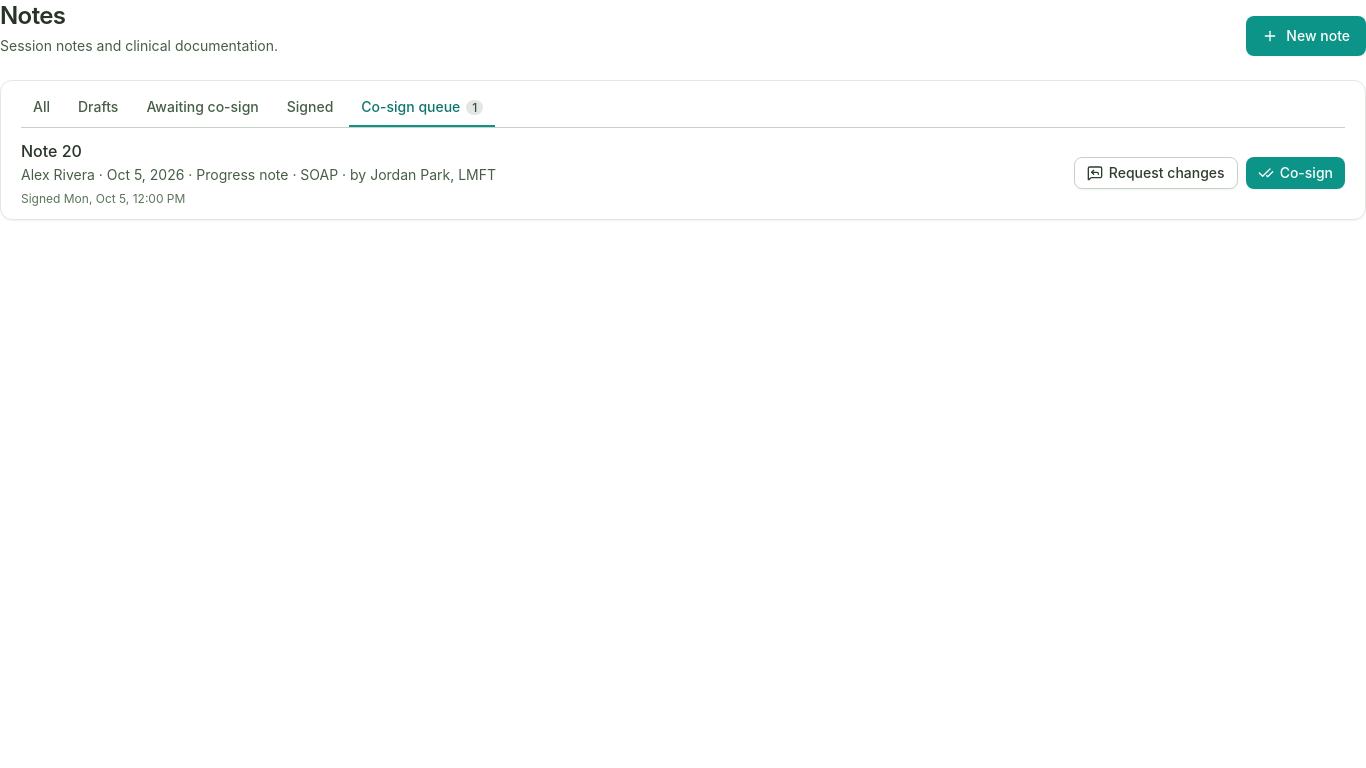
co-sign queue › lets a supervisor co-sign a supervisee's note from the queue
Check: the text "by Jordan Park, LMFT" is shown, box [21,166,496,183]
Click the button with aria-label "Co-sign Jordan Park, LMFT's note for Alex Rivera": (1295, 173) [1246,157,1345,189]
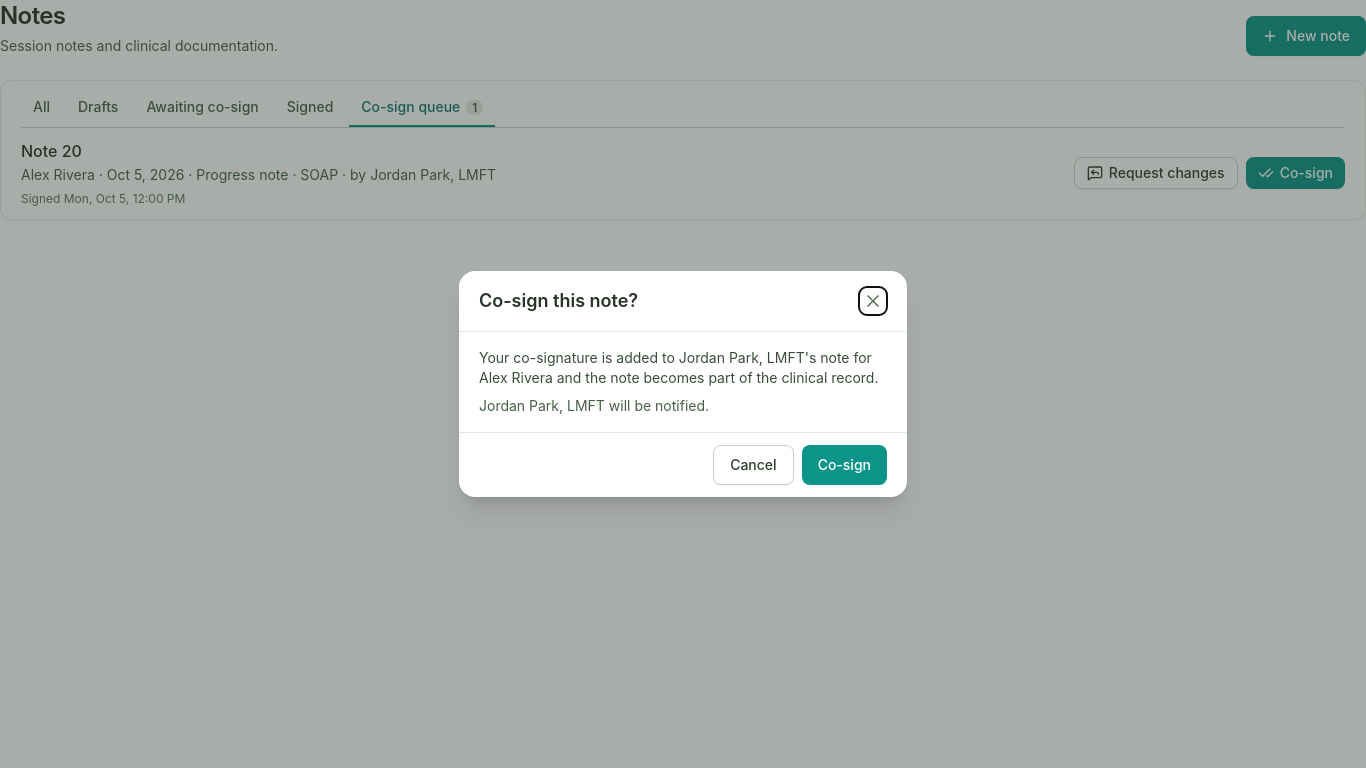
Click the button "Co-sign": (844, 465) [802,445,887,485]
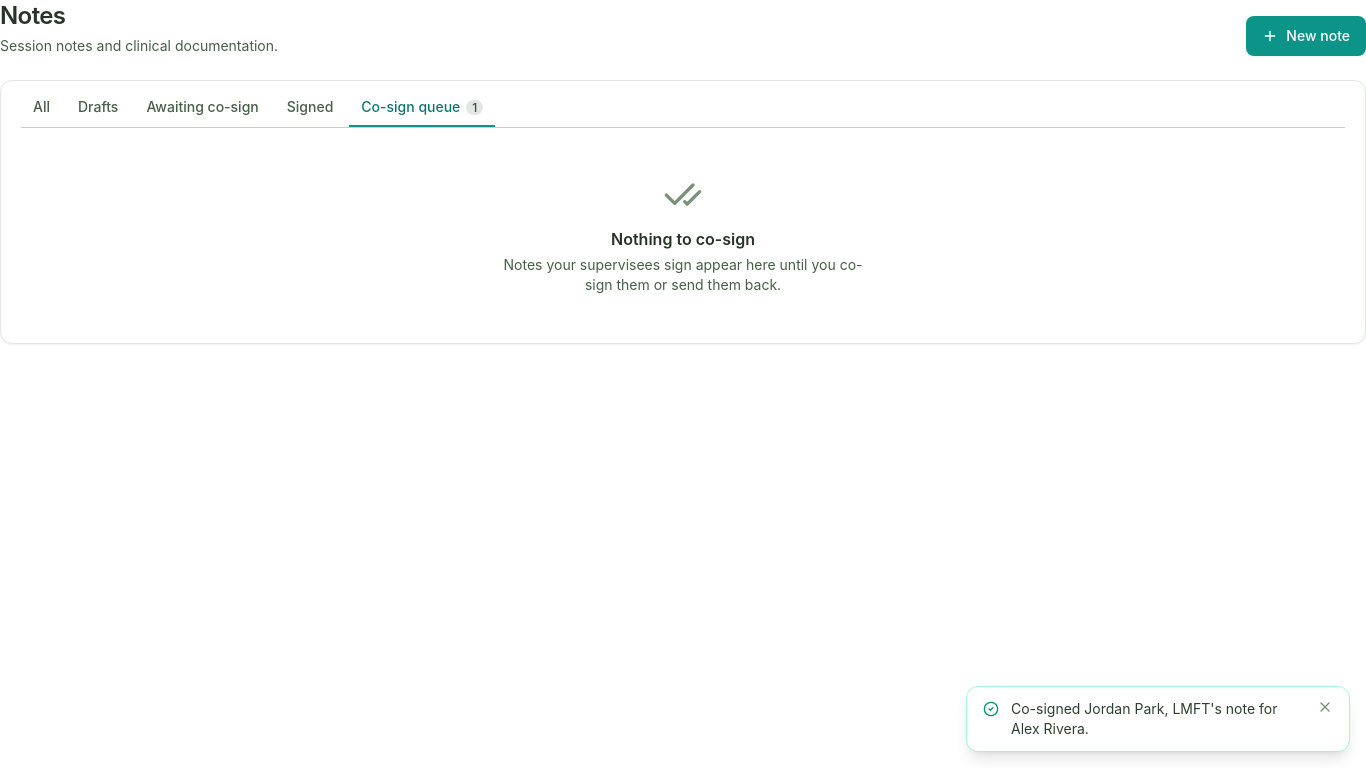
Check: the heading "Nothing to co-sign" is shown, box [611,227,755,251]
